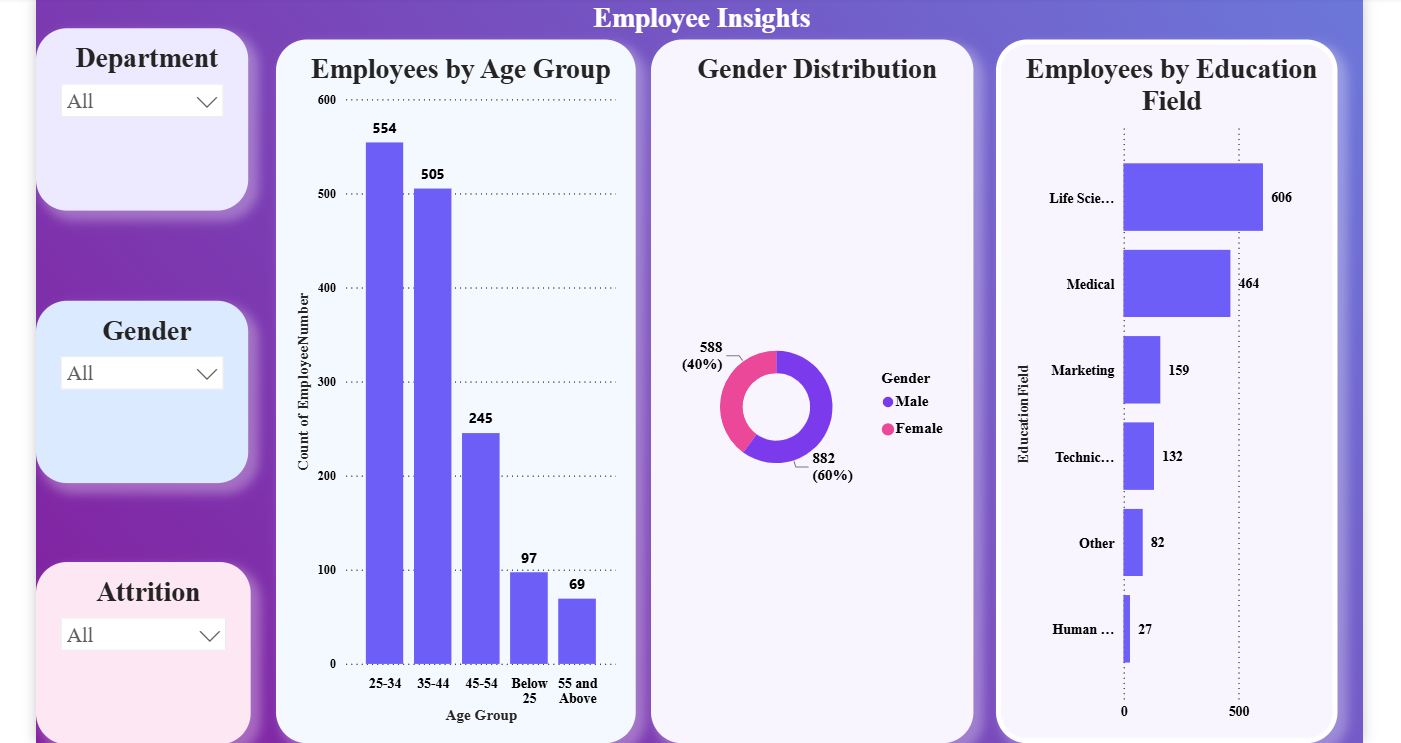

This screenshot's page, from the dashboard's own definition file:
{"tool":"powerbi","page":{"name":"Employee Insights","canvas":[1280,720],"ordinal":1},"visuals":[{"type":"textbox","box":[455.6,0,373.2,60.4],"z":0},{"type":"slicer","title":"Department","fields":{"Values":["hr_attrition_analysis hr_attrition.Department"]},"box":[0,30.2,204.5,175.6],"z":1000},{"type":"slicer","title":"Gender","fields":{"Values":["hr_attrition_analysis hr_attrition.Gender"]},"box":[0,293.7,204.5,175.6],"z":2000},{"type":"slicer","title":"Attrition","fields":{"Values":["hr_attrition_analysis hr_attrition.Attrition"]},"box":[0,544.8,207.2,175.6],"z":3000},{"type":"donutChart","title":"Gender Distribution","fields":{"Category":["hr_attrition_analysis hr_attrition.Gender"],"Y":["CountNonNull(hr_attrition_analysis hr_attrition.EmployeeNumber)"]},"box":[594.2,41.2,311.5,679.2],"z":4000},{"type":"clusteredColumnChart","title":"Employees by Age Group","fields":{"Category":["hr_attrition_analysis hr_attrition.Age Group"],"Y":["CountNonNull(hr_attrition_analysis hr_attrition.EmployeeNumber)"]},"box":[231.9,41.2,347.2,679.2],"z":5000},{"type":"clusteredBarChart","title":"Employees by Education Field","fields":{"Category":["hr_attrition_analysis hr_attrition.EducationField"],"Y":["CountNonNull(hr_attrition_analysis hr_attrition.EmployeeNumber)"]},"box":[926.2,41.2,329.3,679.2],"z":6000}]}

Visuals, with their boxes on the page's 1280x720 design canvas (x1, y1, x2, y2). These are canvas units, not pixel positions in the 1401x743 screenshot, which may show the page scaled, cropped or inside an application window:
textbox: box=[456, 0, 829, 60]
"Department" slicer: box=[0, 30, 204, 206]
"Gender" slicer: box=[0, 294, 204, 469]
"Attrition" slicer: box=[0, 545, 207, 720]
"Gender Distribution" donutChart: box=[594, 41, 906, 720]
"Employees by Age Group" clusteredColumnChart: box=[232, 41, 579, 720]
"Employees by Education Field" clusteredBarChart: box=[926, 41, 1256, 720]
